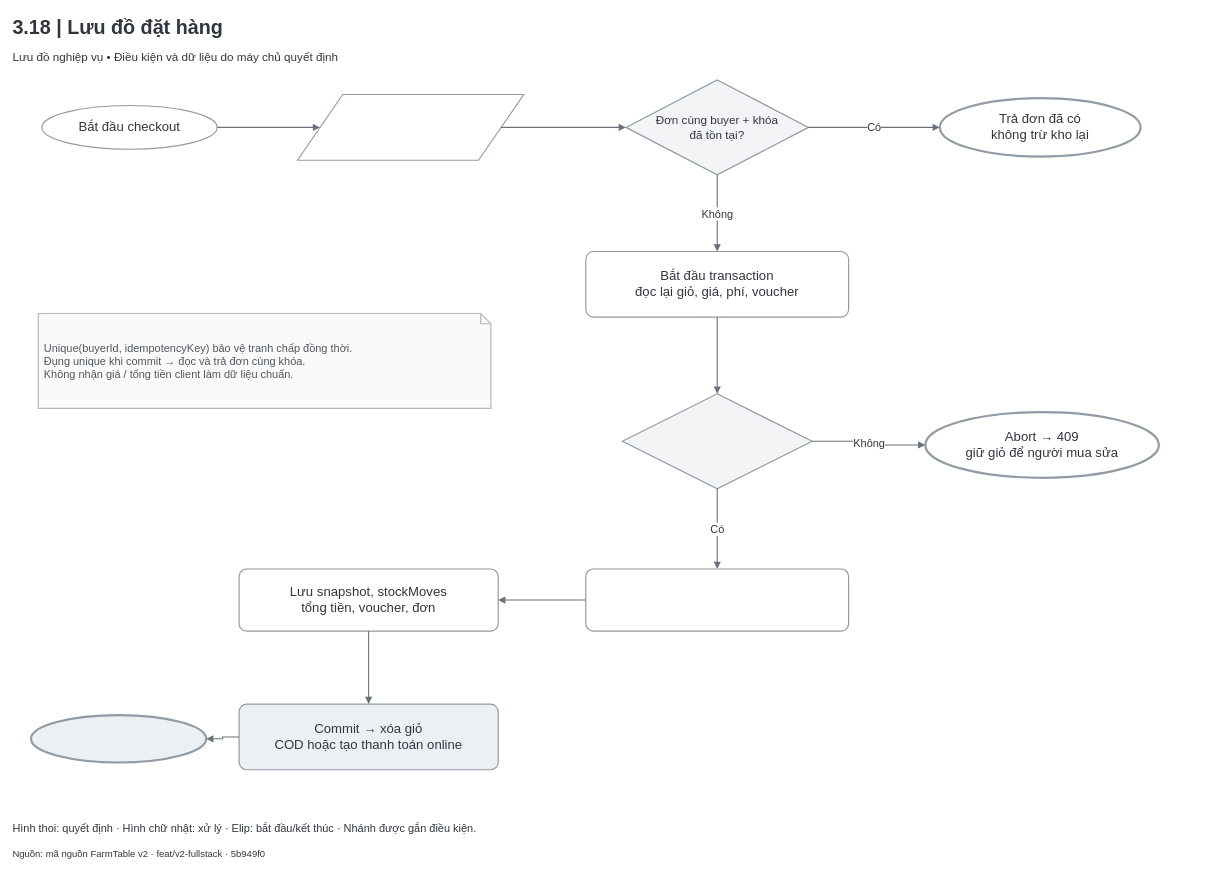
The diagram is 1222 pixels wide and 875 high, and some of its shapes have lost their labels. Here are the shapes that lost their labels. From the top down, the box of each, then its label:
(297, 94, 524, 160): Buyer, giỏ, địa chỉ và Idempotency-Key
(621, 393, 812, 489): Giá khớp, còn hạn, đủ tồn khả dụng?
(585, 568, 849, 631): Update kho có điều kiện Tách parts theo vendor
(30, 714, 207, 763): Trả kết quả đơn hàng
